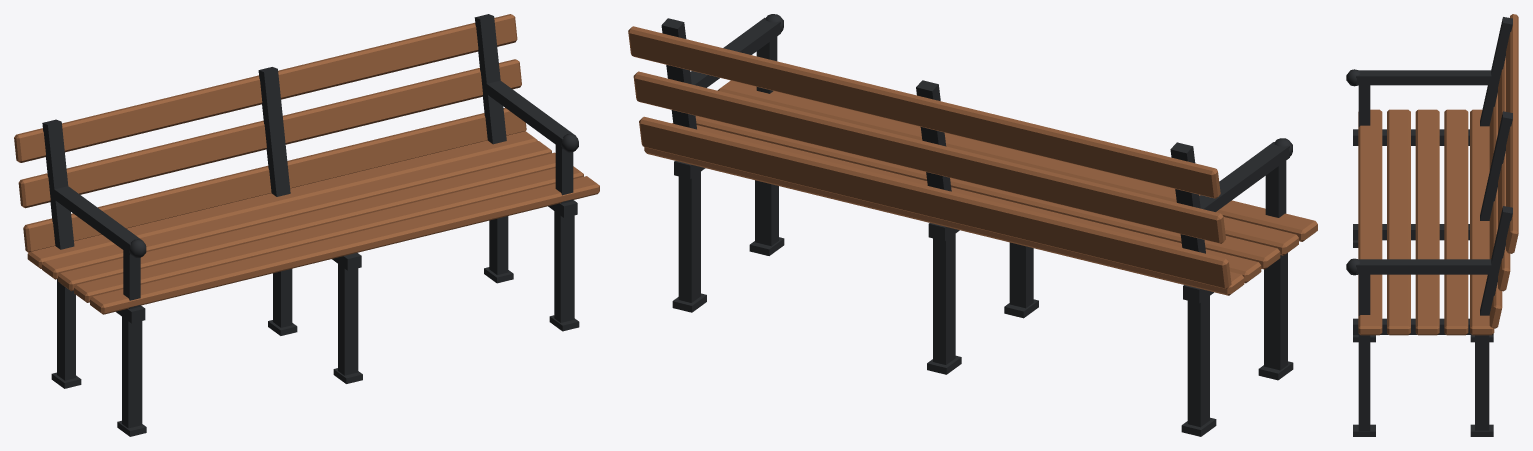
The model's file is banco_praca.glb.
3 views of the same model, side by side, from view 1: azimuth 30°, elevation 25°; view 2: azimuth 150°, elevation 25°; view 3: azimuth 270°, elevation 25° (orthographic). The views are drawn at different scales.
Visible parts, largest first — view 1: banco_praca; view 2: banco_praca; view 3: banco_praca.
Part boxes in pixels (bbox=[...]): banco_praca: bbox=[14, 14, 599, 436]; banco_praca: bbox=[628, 14, 1317, 436]; banco_praca: bbox=[1346, 14, 1518, 436].
Size of the model in its own units: 1.8 by 0.8634 by 0.601.
